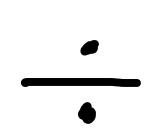div: (20, 39, 138, 123)
